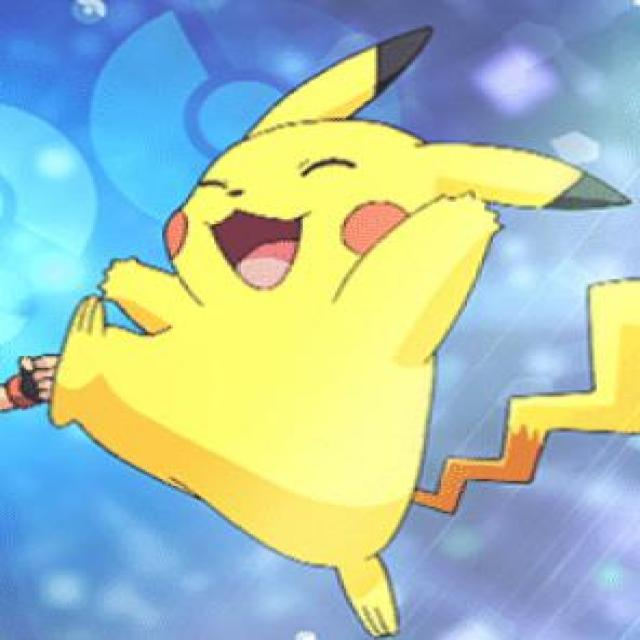pikachu: (53, 27, 631, 637)
